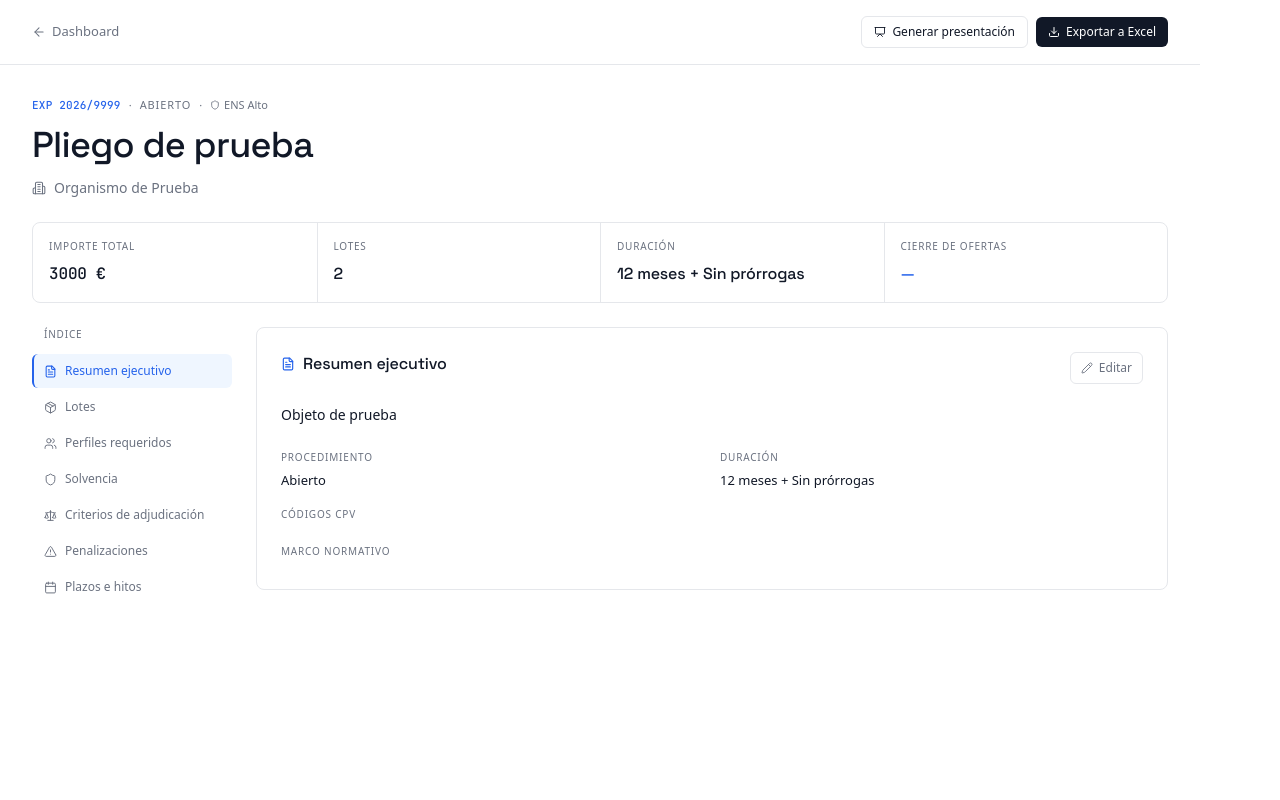
Test: Analysis - edición del importe total del pliego (sección Lotes) › si el guardado tiene éxito, sale del modo edición
Click the button "Lotes" at {"x": 132, "y": 407}, box [32, 390, 232, 424]
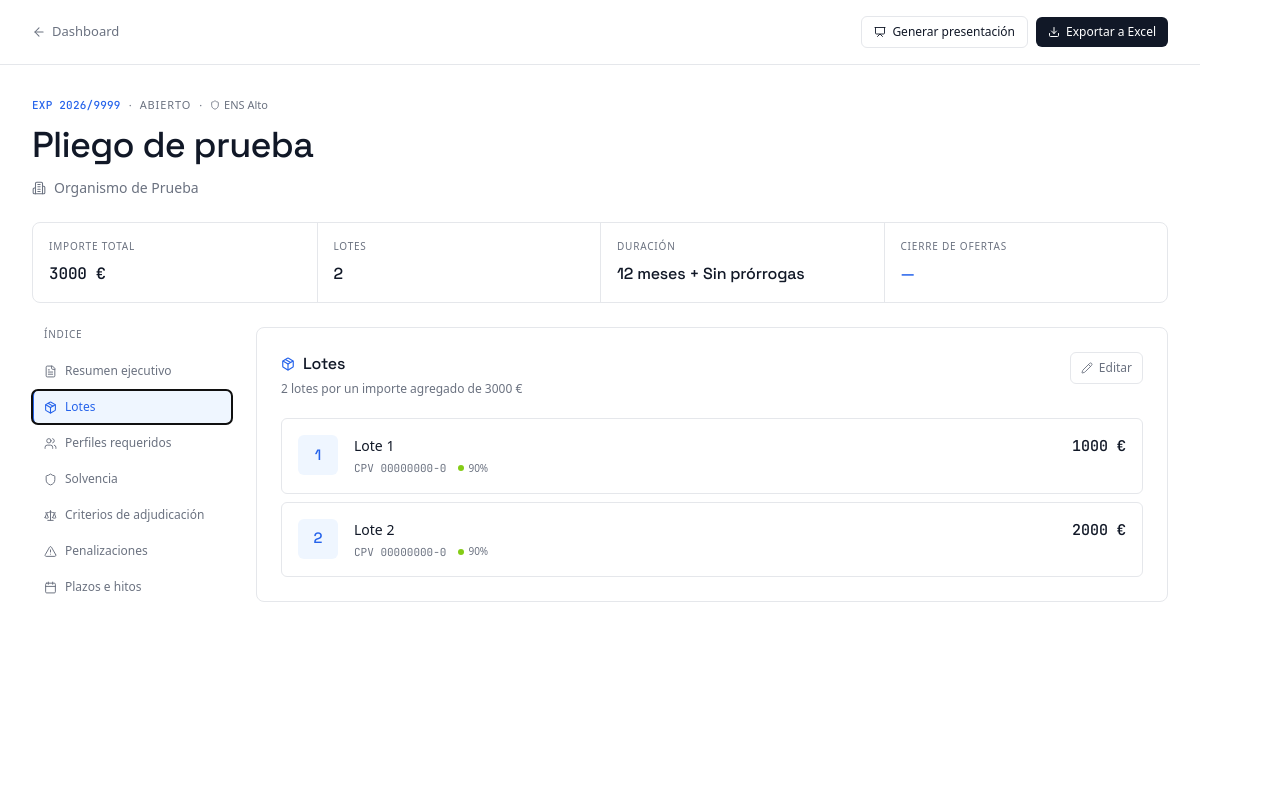
Click the button "Editar" at {"x": 1106, "y": 368}, box [1070, 352, 1143, 384]
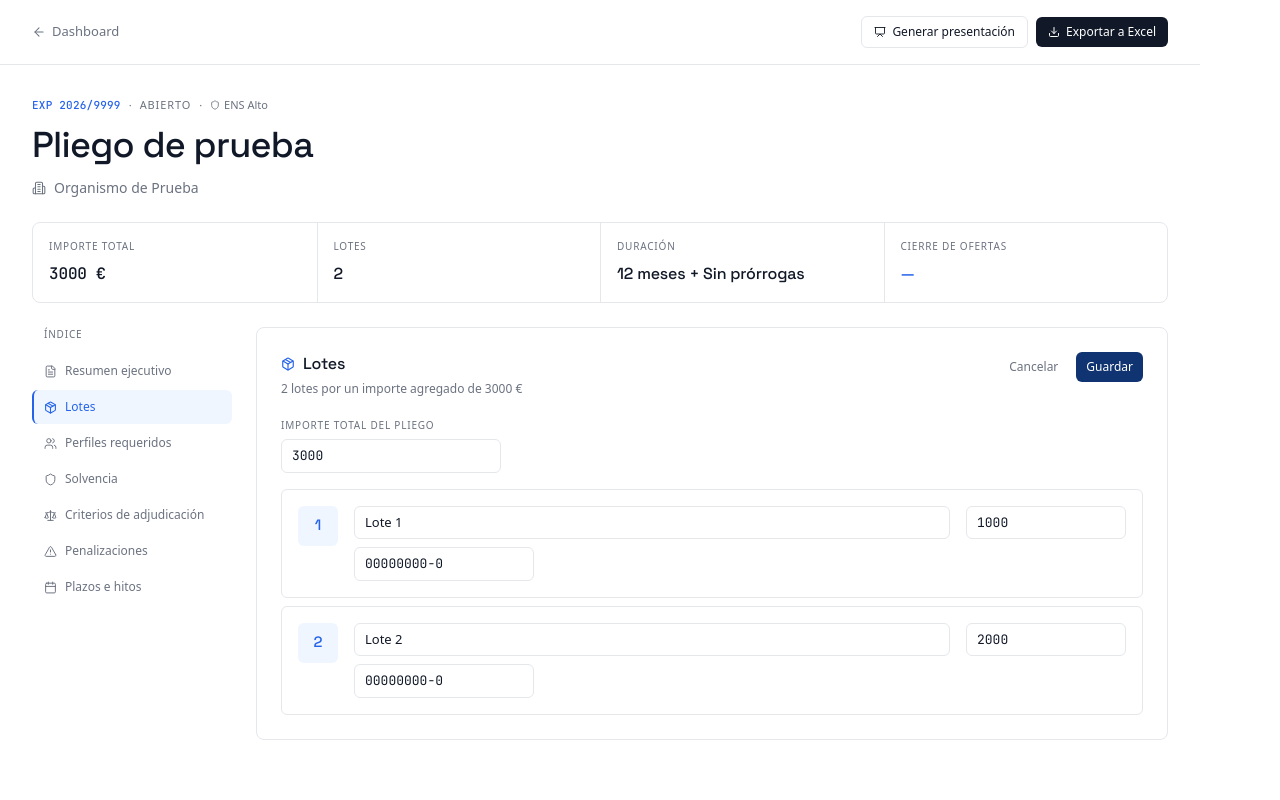
Click the button "Guardar" at {"x": 1110, "y": 367}, box [1076, 352, 1143, 382]
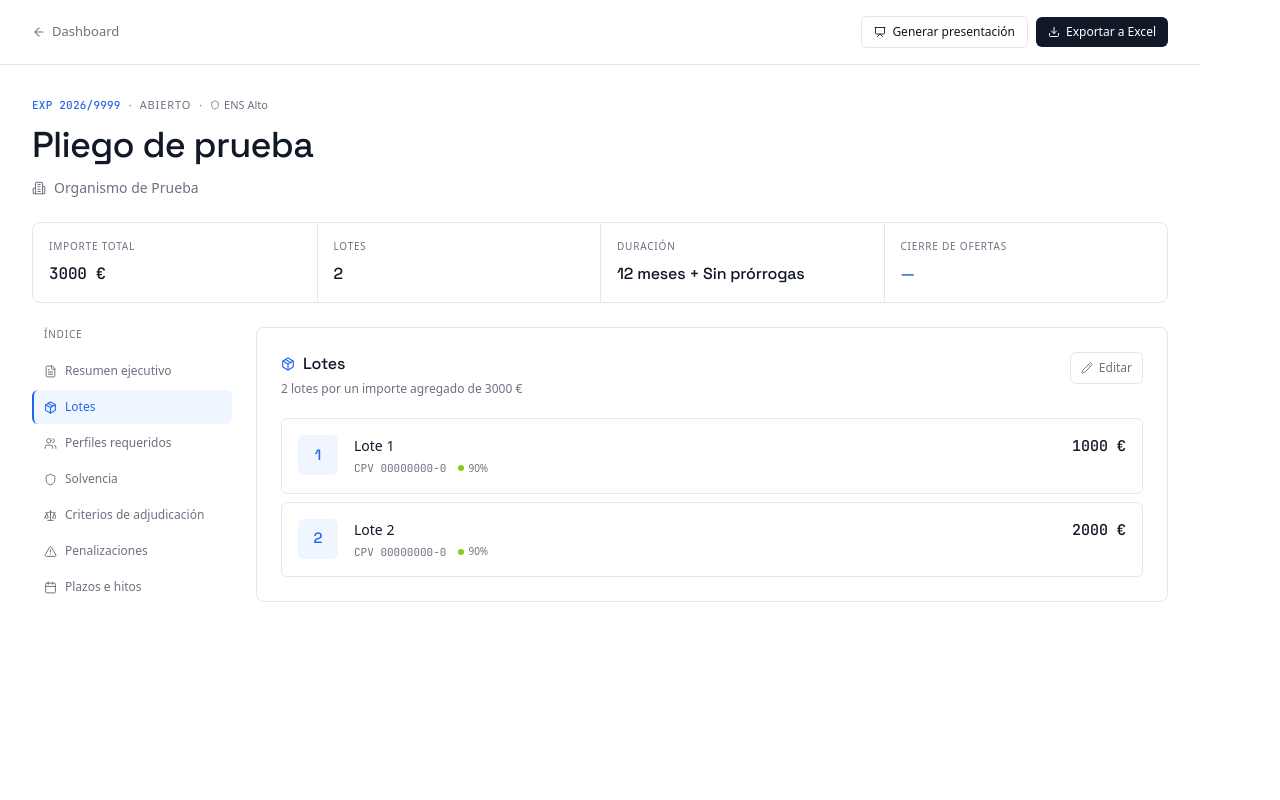
Check: the button "Editar" is shown, box [1070, 352, 1143, 384]
Check: the button "Guardar" is gone
